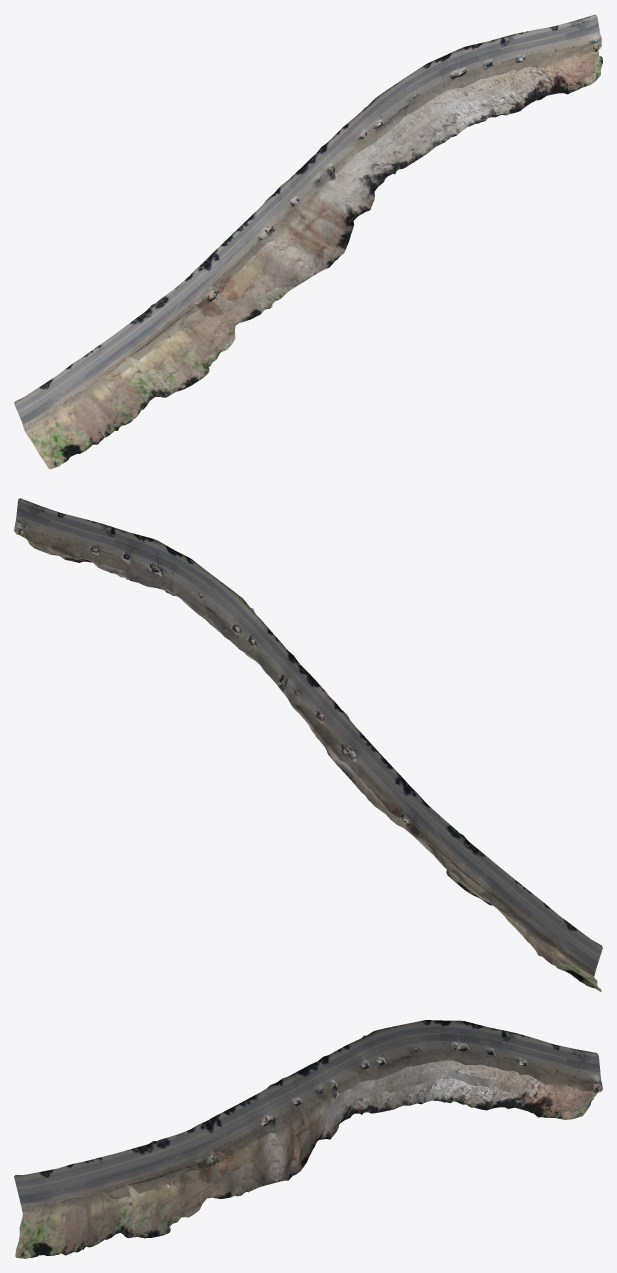
File: t6_superficie.glb
3 renders of one model, top to bottom at view 1: azimuth 30°, elevation 25°; view 2: azimuth 150°, elevation 25°; view 3: azimuth 330°, elevation 25°, orthographic. The views are drawn at different scales.
Parts seen in each view (by area): view 1: Bloco 1; view 2: Bloco 1; view 3: Bloco 1.
Boxes of the visible parts, x1,y1,x2,y2 form: Bloco 1: [14, 14, 602, 469]; Bloco 1: [14, 498, 602, 991]; Bloco 1: [14, 1020, 602, 1258].
Size of the model in its own units: 314 by 171 by 32.71.
1 material, 1 textured.
